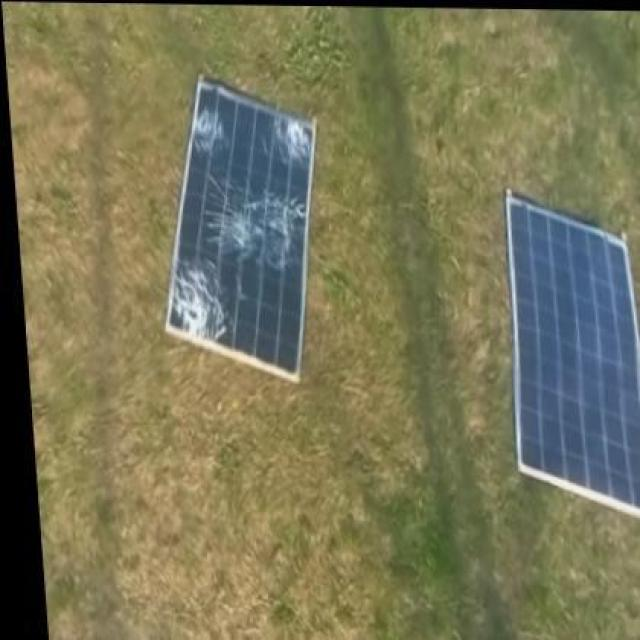cracked: (166, 74, 317, 388)
